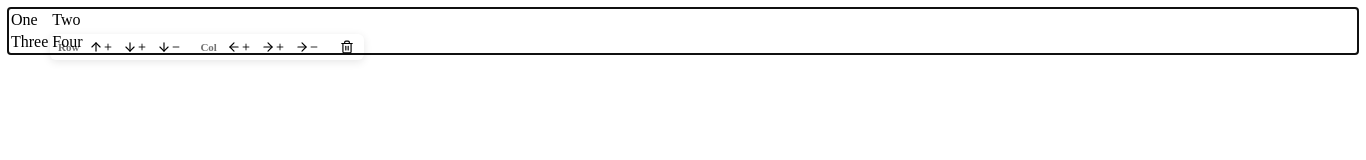
Test: TableControls › deletes the current table and replaces it with an empty paragraph
Click the button titled "Delete table": (347, 47) 336,37 -> 358,57
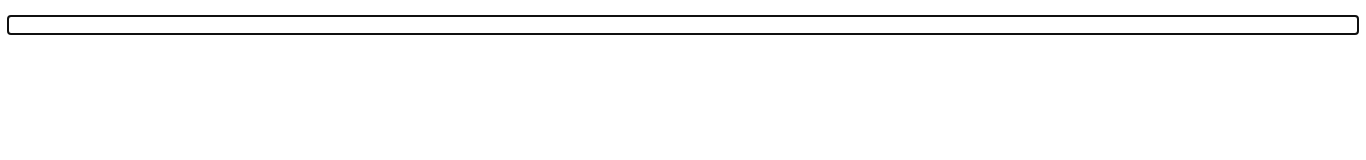
Now the table is gone
